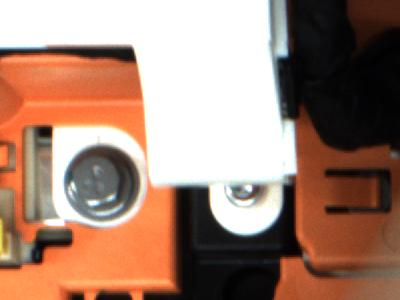nut_b: (60, 145, 148, 226)
